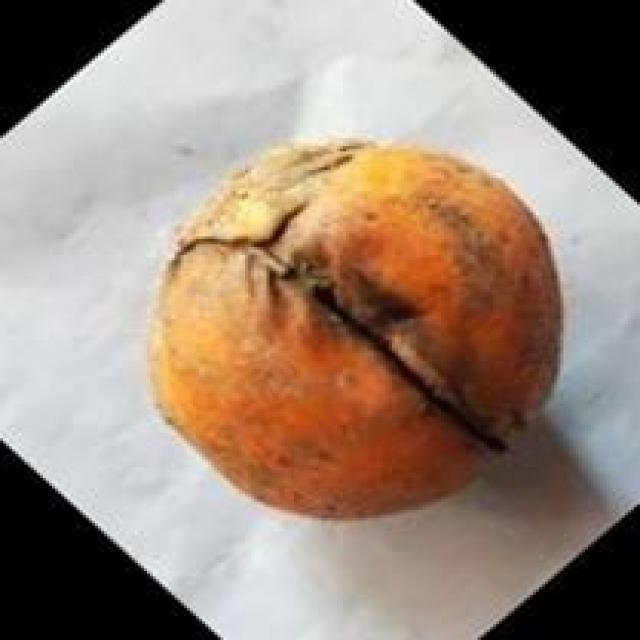damaged: (150, 141, 560, 515)
